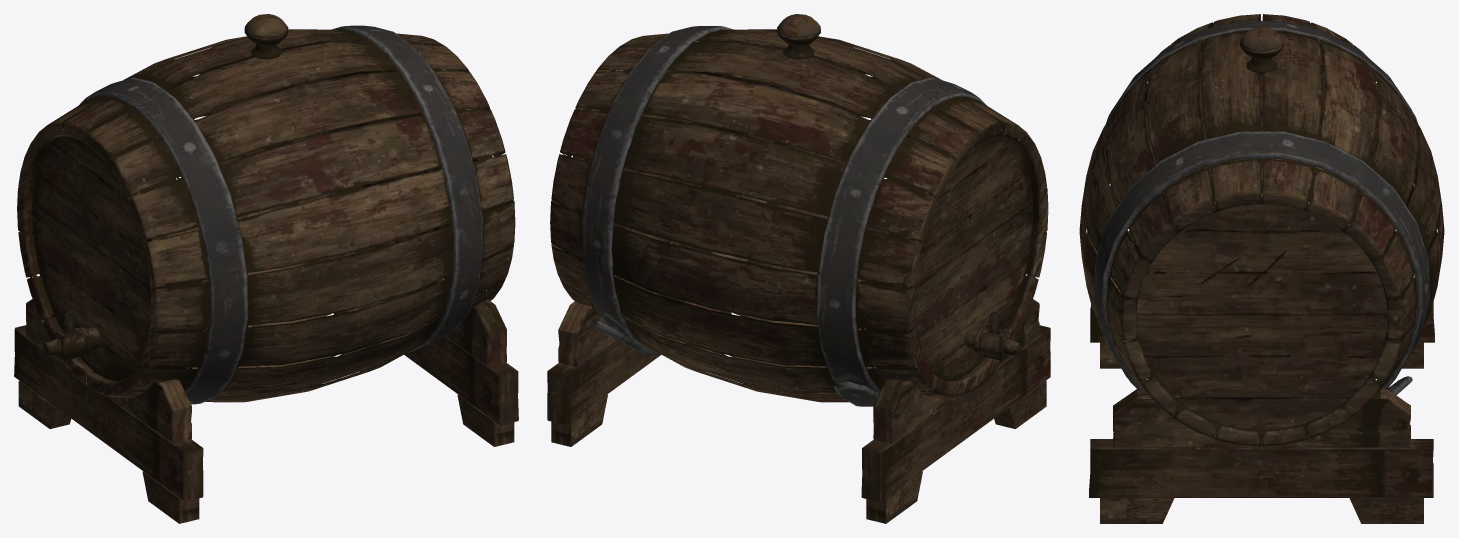
3 views of the same model, side by side, from view 1: azimuth 30°, elevation 25°; view 2: azimuth 150°, elevation 25°; view 3: azimuth 270°, elevation 25° (orthographic).
Visible parts, largest first — view 1: SM_Garou_Barrel_04_LOD0; view 2: SM_Garou_Barrel_04_LOD0; view 3: SM_Garou_Barrel_04_LOD0.
Part boxes in pixels (box(x1,y1,x2,y2)): SM_Garou_Barrel_04_LOD0: box(14, 14, 518, 523); SM_Garou_Barrel_04_LOD0: box(547, 14, 1050, 523); SM_Garou_Barrel_04_LOD0: box(1079, 14, 1444, 523).
Size of the model in its own units: 1.6 by 1.55 by 1.25.
1 material, 1 textured.
